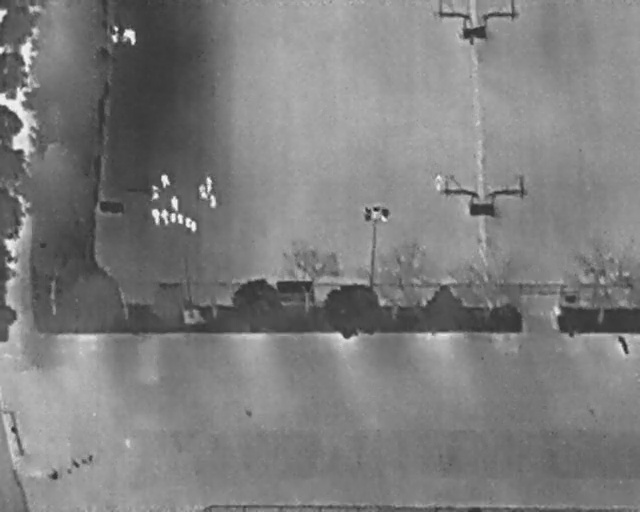Person: (123, 28, 136, 46), (170, 194, 179, 212), (151, 184, 161, 200), (151, 208, 160, 225), (161, 174, 171, 189), (111, 25, 119, 43), (161, 208, 169, 225), (435, 174, 443, 191), (209, 194, 217, 208), (206, 176, 213, 192), (198, 183, 206, 193), (200, 191, 208, 200)
